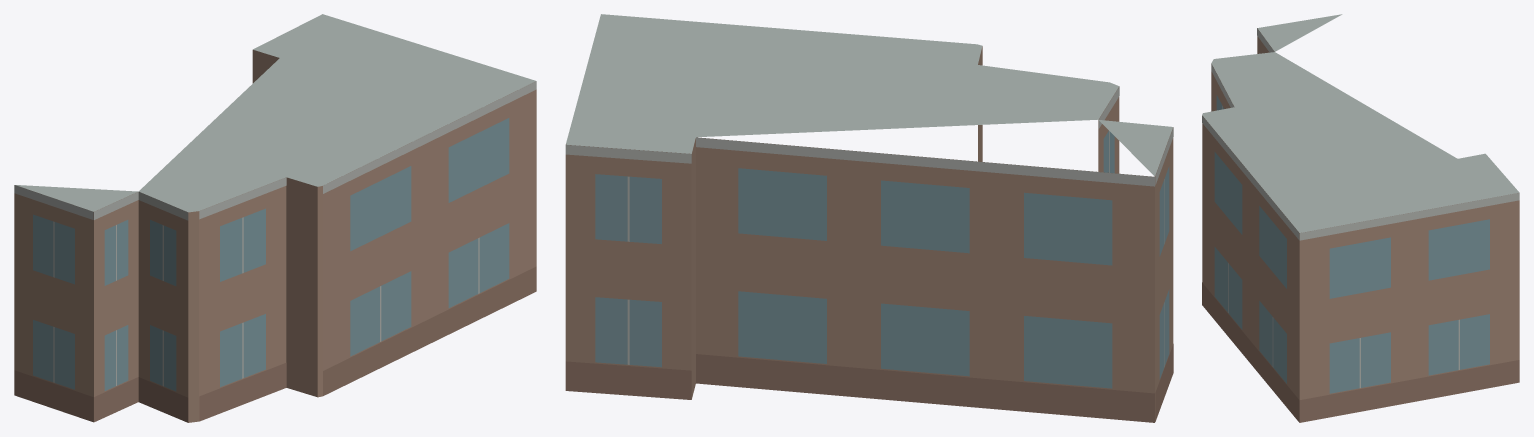
Rendered from survey-upis-32459848.glb.
3 views of the same model, side by side, from view 1: azimuth 30°, elevation 25°; view 2: azimuth 150°, elevation 25°; view 3: azimuth 270°, elevation 25° (orthographic). The views are drawn at different scales.
Visible parts, largest first — view 1: survey-upis-32459848.tmp; view 2: survey-upis-32459848.tmp; view 3: survey-upis-32459848.tmp.
Boxes of the visible parts, <box> form: survey-upis-32459848.tmp: <box>14,14,536,422</box>; survey-upis-32459848.tmp: <box>565,14,1173,422</box>; survey-upis-32459848.tmp: <box>1202,14,1519,422</box>.
Size of the model in its own units: 15.11 by 6.1 by 9.26.
